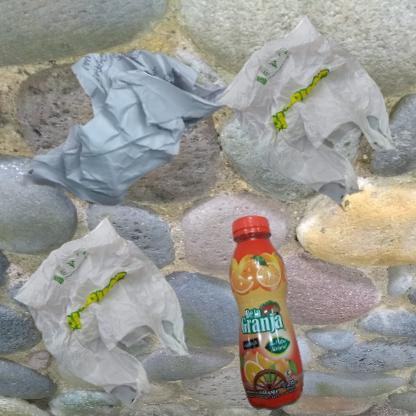bolsa: (213, 10, 400, 209), (10, 213, 194, 409)
botella: (213, 213, 326, 416)
papel: (10, 10, 271, 293)
